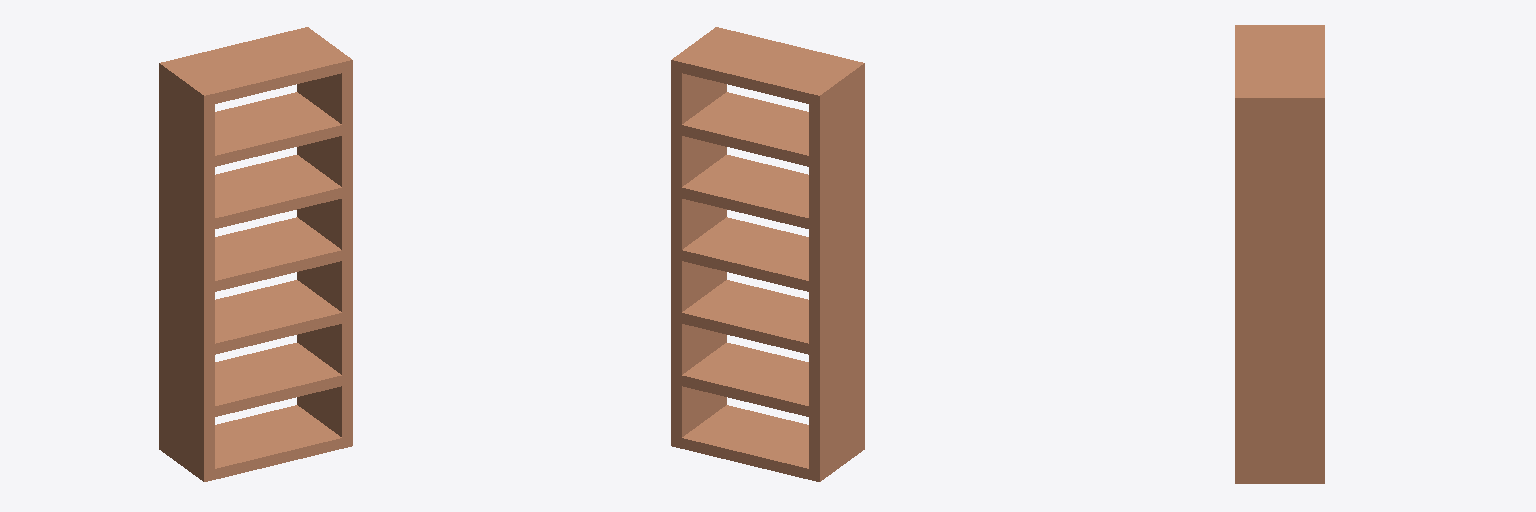
The model's file is Bookshelve_middlesize.obj.
The picture shows the model from 3 angles: view 1: azimuth 30°, elevation 25°; view 2: azimuth 150°, elevation 25°; view 3: azimuth 270°, elevation 25°; orthographic projection.
Parts seen in each view (by area): view 1: object_1; view 2: object_1; view 3: object_1.
Boxes of the visible parts, <box> form: object_1: <box>159,27,352,481</box>; object_1: <box>671,27,864,481</box>; object_1: <box>1235,25,1324,483</box>.
Size of the model in its own units: 57.06 by 143 by 30.